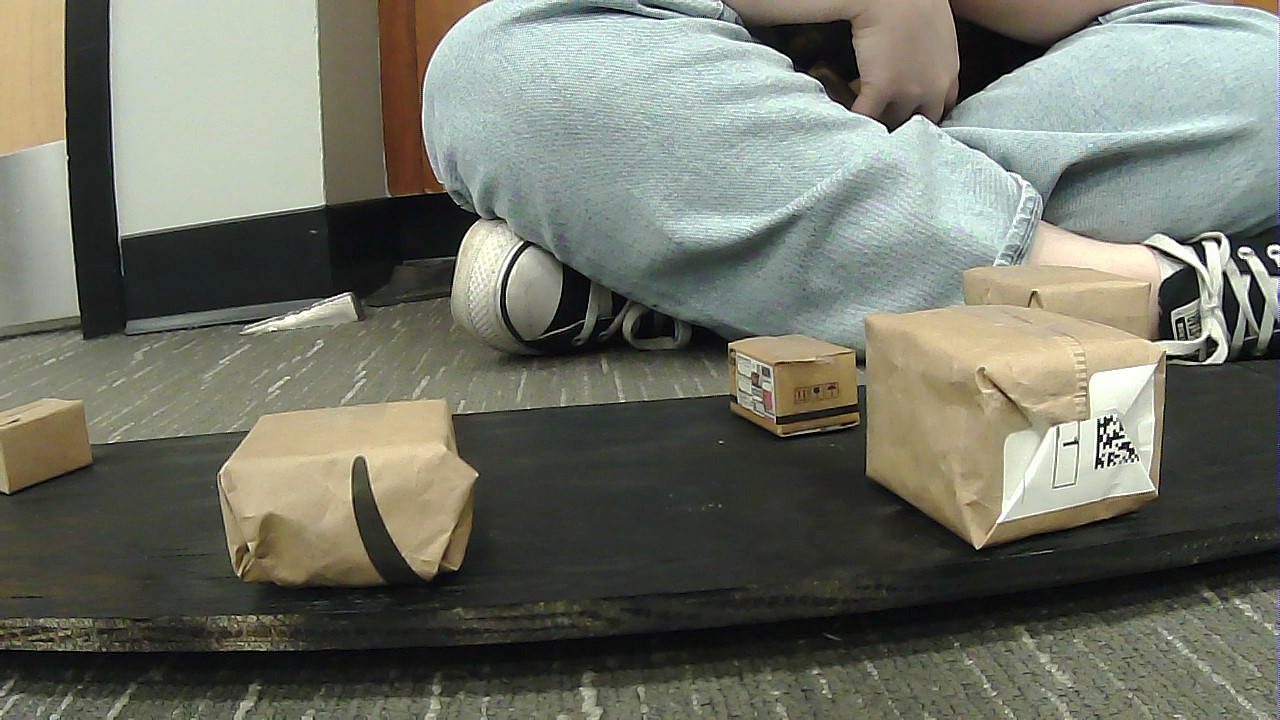package: (847, 310, 1204, 555), (200, 382, 473, 590), (961, 245, 1165, 363), (726, 330, 859, 429), (3, 394, 109, 497)
